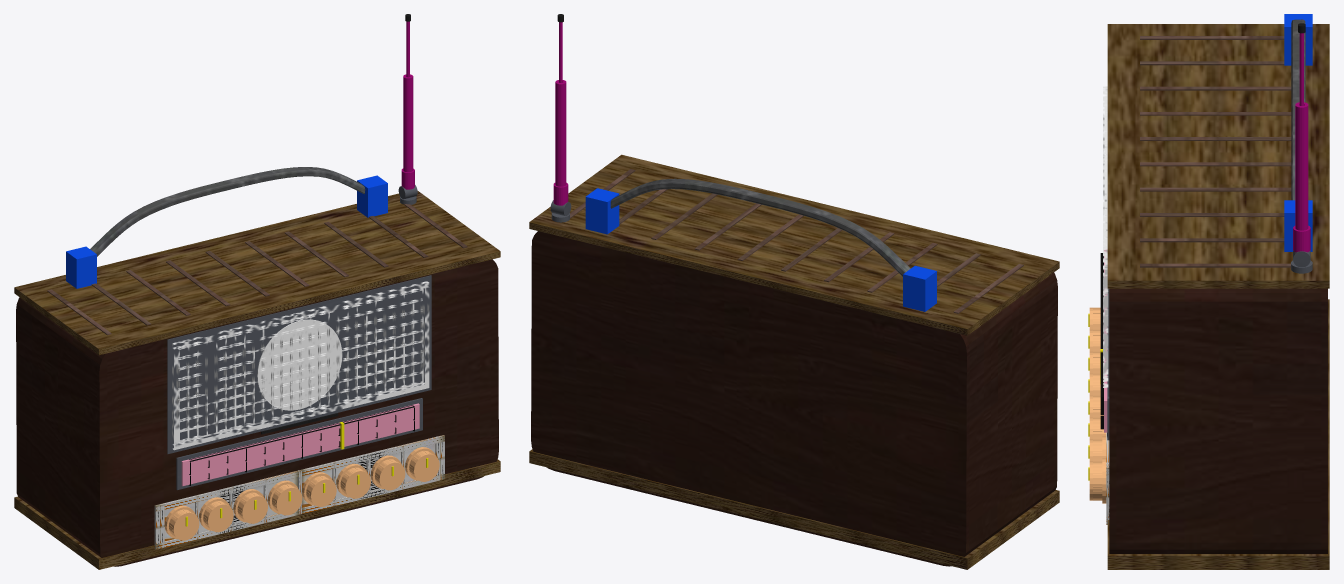
Rendered from Technology_Audio_Device__2579.glb.
The picture shows the model from 3 angles, left to right: view 1: azimuth 30°, elevation 25°; view 2: azimuth 150°, elevation 25°; view 3: azimuth 270°, elevation 25°; orthographic projection. The views are drawn at different scales.
Parts seen in each view (by area): view 1: cabinet::cabinet_form__landscape_cabinet__shell, cabinet::cabinet_form__landscape_cabinet__top_cap, cabinet::speaker_layout__single_field__field_bezel_0, cabinet::grille_style__perforated_mesh__field_0, cabinet::cabinet_form__landscape_cabinet__dial_face, cabinet::speaker_layout__single_field__cone_0, cabinet::cabinet_form__landscape_cabinet__plinth_rail, cabinet::cabinet_form__landscape_cabinet__top_grain, carry_handle::carry_handle__fixed_bail__arch, cabinet::cabinet_form__landscape_cabinet__dial_bezel, control_deck::control_deck__rotary_knob_bank__deck_rail_1, control_deck::control_deck__rotary_knob_bank__deck_web (+13 smaller); view 2: cabinet::cabinet_form__landscape_cabinet__shell, cabinet::cabinet_form__landscape_cabinet__top_cap, cabinet::cabinet_form__landscape_cabinet__plinth_rail, carry_handle::carry_handle__fixed_bail__arch, cabinet::cabinet_form__landscape_cabinet__top_grain, carry_handle::carry_handle__fixed_bail__saddle_0, carry_handle::carry_handle__fixed_bail__saddle_1, antenna_module__rear_telescoping_mast__base::antenna_module_; view 3: cabinet::cabinet_form__landscape_cabinet__shell, cabinet::cabinet_form__landscape_cabinet__top_cap, cabinet::cabinet_form__landscape_cabinet__top_grain, cabinet::cabinet_form__landscape_cabinet__plinth_rail, antenna_module__rear_telescoping_mast__base::antenna_module_ (×2), cabinet::grille_style__perforated_mesh__field_0, carry_handle::carry_handle__fixed_bail__arch, carry_handle::carry_handle__fixed_bail__saddle_0, carry_handle::carry_handle__fixed_bail__saddle_1, control_deck__rotary_knob_bank__knob_07::control_deck__rotar, cabinet::cabinet_form__landscape_cabinet__dial_scale, control_deck__rotary_knob_bank__knob_06::control_deck__rotar (+2 smaller).
Boxes of the visible parts, x1,y1,x2,y2 form: cabinet::cabinet_form__landscape_cabinet__shell: (16, 259, 498, 566); cabinet::cabinet_form__landscape_cabinet__top_cap: (14, 191, 500, 355); cabinet::speaker_layout__single_field__field_bezel_0: (167, 275, 431, 454); cabinet::grille_style__perforated_mesh__field_0: (172, 281, 429, 450); cabinet::cabinet_form__landscape_cabinet__dial_face: (181, 403, 419, 485); cabinet::speaker_layout__single_field__cone_0: (257, 319, 342, 410); cabinet::cabinet_form__landscape_cabinet__plinth_rail: (14, 459, 500, 569); cabinet::cabinet_form__landscape_cabinet__top_grain: (47, 204, 467, 335); carry_handle::carry_handle__fixed_bail__arch: (90, 167, 365, 256); cabinet::cabinet_form__landscape_cabinet__dial_bezel: (176, 398, 422, 490); control_deck::control_deck__rotary_knob_bank__deck_rail_1: (154, 435, 444, 511); control_deck::control_deck__rotary_knob_bank__deck_web: (155, 435, 443, 541); cabinet::cabinet_form__landscape_cabinet__shell: (531, 231, 1057, 566); cabinet::cabinet_form__landscape_cabinet__top_cap: (529, 154, 1059, 335); cabinet::cabinet_form__landscape_cabinet__plinth_rail: (529, 449, 1059, 569); carry_handle::carry_handle__fixed_bail__arch: (610, 178, 910, 276); cabinet::cabinet_form__landscape_cabinet__top_grain: (570, 169, 1023, 313); carry_handle::carry_handle__fixed_bail__saddle_0: (903, 265, 936, 311); carry_handle::carry_handle__fixed_bail__saddle_1: (585, 188, 619, 234); antenna_module__rear_telescoping_mast__base::antenna_module_: (555, 80, 566, 186); cabinet::cabinet_form__landscape_cabinet__shell: (1109, 288, 1327, 553); cabinet::cabinet_form__landscape_cabinet__top_cap: (1107, 24, 1329, 288); cabinet::cabinet_form__landscape_cabinet__top_grain: (1140, 36, 1291, 267); cabinet::cabinet_form__landscape_cabinet__plinth_rail: (1107, 299, 1329, 569); antenna_module__rear_telescoping_mast__base::antenna_module_ (×2): (1293, 102, 1310, 252); cabinet::grille_style__perforated_mesh__field_0: (1103, 86, 1108, 387); carry_handle::carry_handle__fixed_bail__arch: (1291, 19, 1305, 200); carry_handle::carry_handle__fixed_bail__saddle_0: (1284, 14, 1312, 65); carry_handle::carry_handle__fixed_bail__saddle_1: (1284, 200, 1312, 251); control_deck__rotary_knob_bank__knob_07::control_deck__rotar: (1089, 458, 1106, 503); cabinet::cabinet_form__landscape_cabinet__dial_scale: (1100, 253, 1103, 429); control_deck__rotary_knob_bank__knob_06::control_deck__rotar: (1089, 436, 1106, 461).
Size of the model in its own units: 0.556 by 0.5414 by 0.2209.
16 materials, 10 textured.
